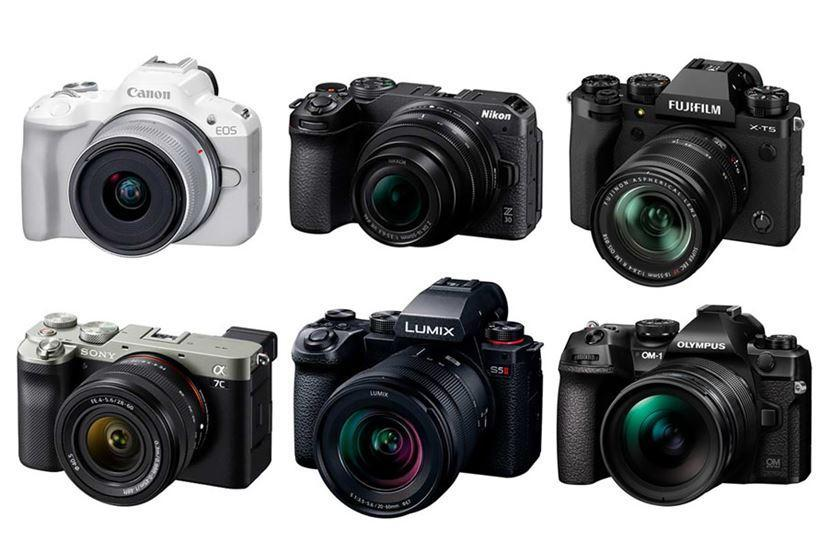degital-camera: (288, 271, 545, 522), (561, 53, 809, 292), (12, 305, 283, 516), (555, 307, 815, 516), (13, 51, 267, 261), (284, 71, 544, 254)
